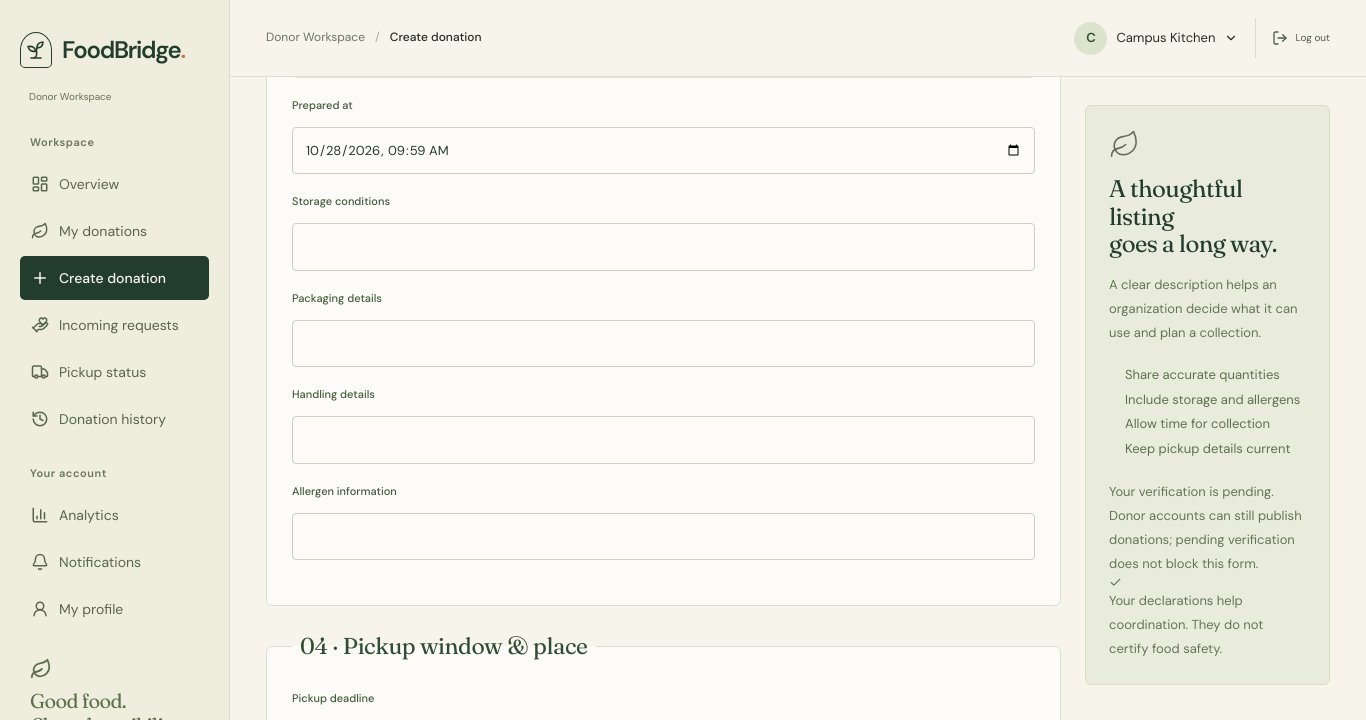
donor operational workspace › explains role denial and refreshes the stale donor session to the current ngo workspace
(page scrolled)
Submit the form named "Create donation"
(page scrolled)
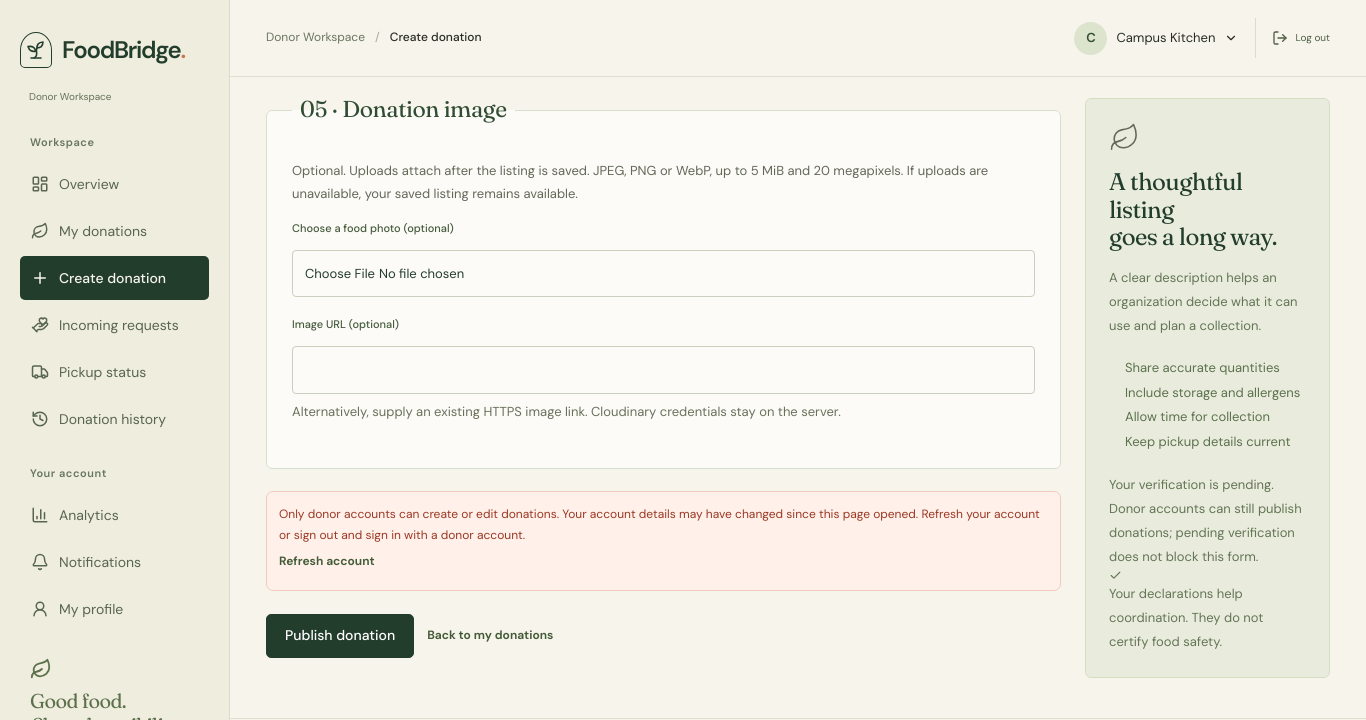
Expected: the message shows "Only donor accounts can create or edit donations", x1=279 y1=506 x2=1040 y2=543
Expected: the message shows "may have changed", x1=279 y1=506 x2=1040 y2=543
Click the button "Refresh account": (327, 562) x1=279 y1=545 x2=375 y2=578
(page scrolled)
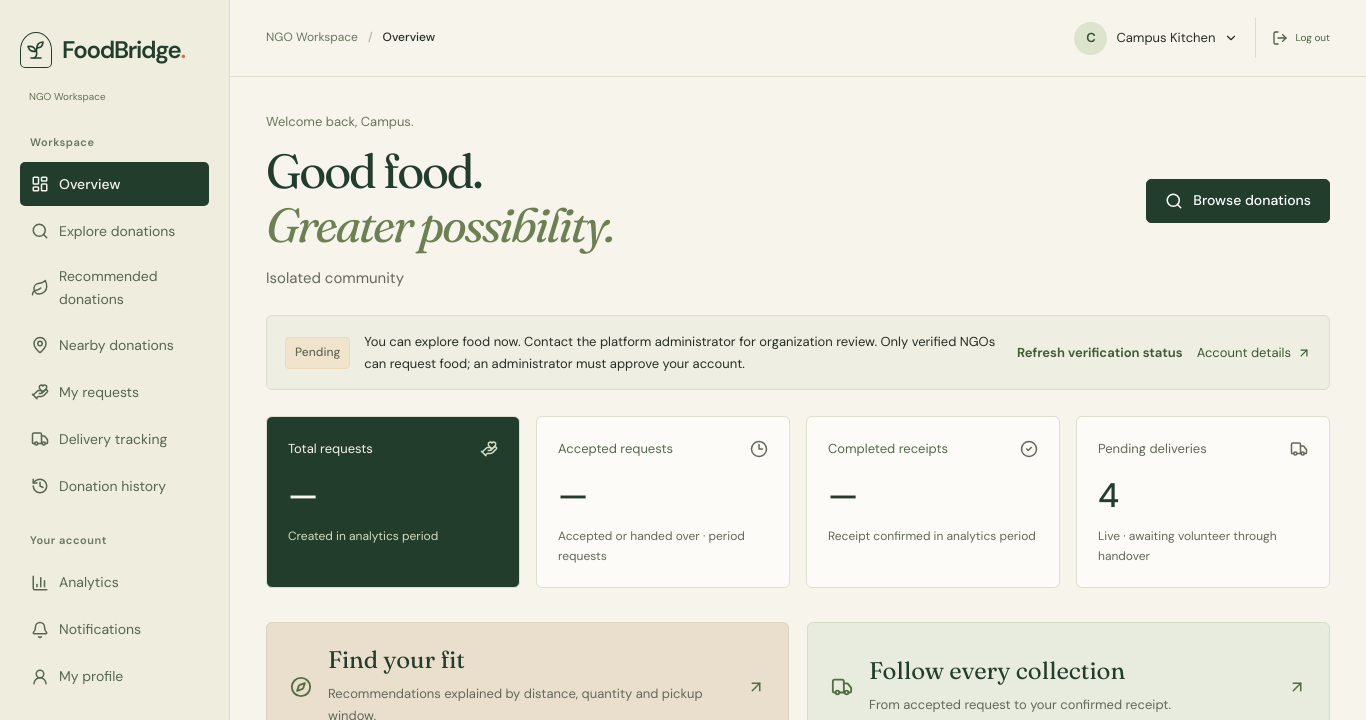
Expected: the link "Create donation" is gone
